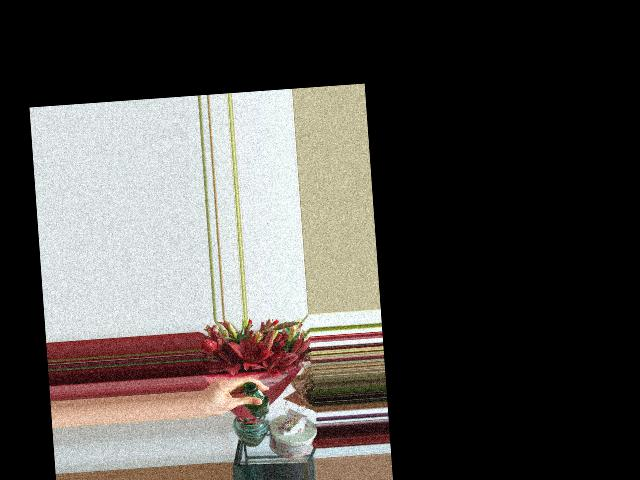beer: (241, 381, 269, 418)
